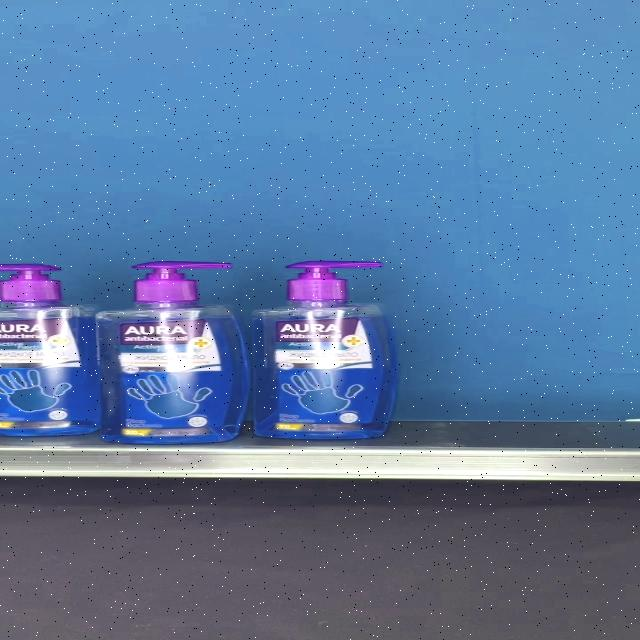Bottle: (96, 260, 250, 444), (250, 261, 396, 439), (0, 264, 103, 435)
Cap: (133, 261, 231, 303), (285, 261, 385, 302), (0, 264, 62, 302)
